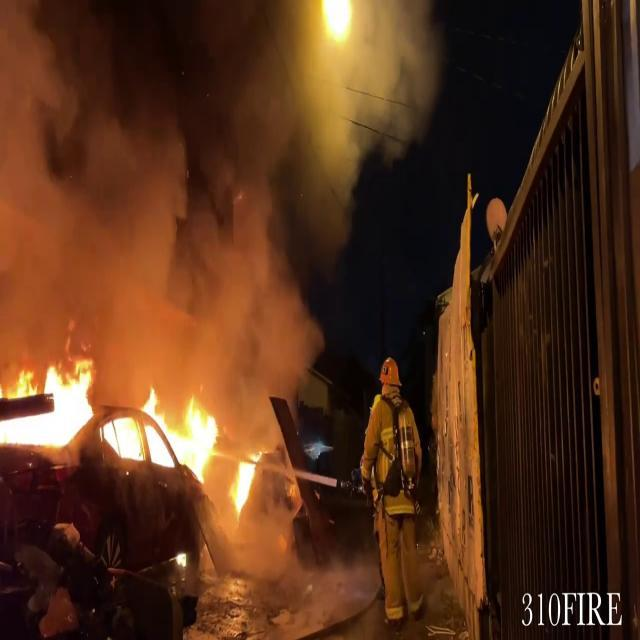Fire: (0, 352, 260, 515), (0, 352, 240, 470), (230, 448, 262, 516)
Smoke: (0, 0, 324, 369)
